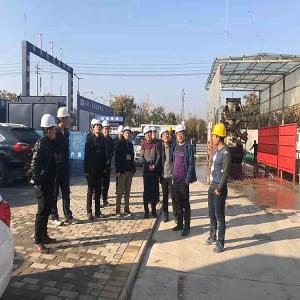white: (41, 114, 58, 141), (58, 109, 70, 129), (176, 124, 186, 144), (101, 120, 111, 137), (123, 125, 133, 142), (161, 128, 171, 145), (93, 121, 103, 137), (143, 126, 153, 142), (118, 125, 125, 139), (152, 127, 158, 140)
yellow: (211, 124, 228, 147)
